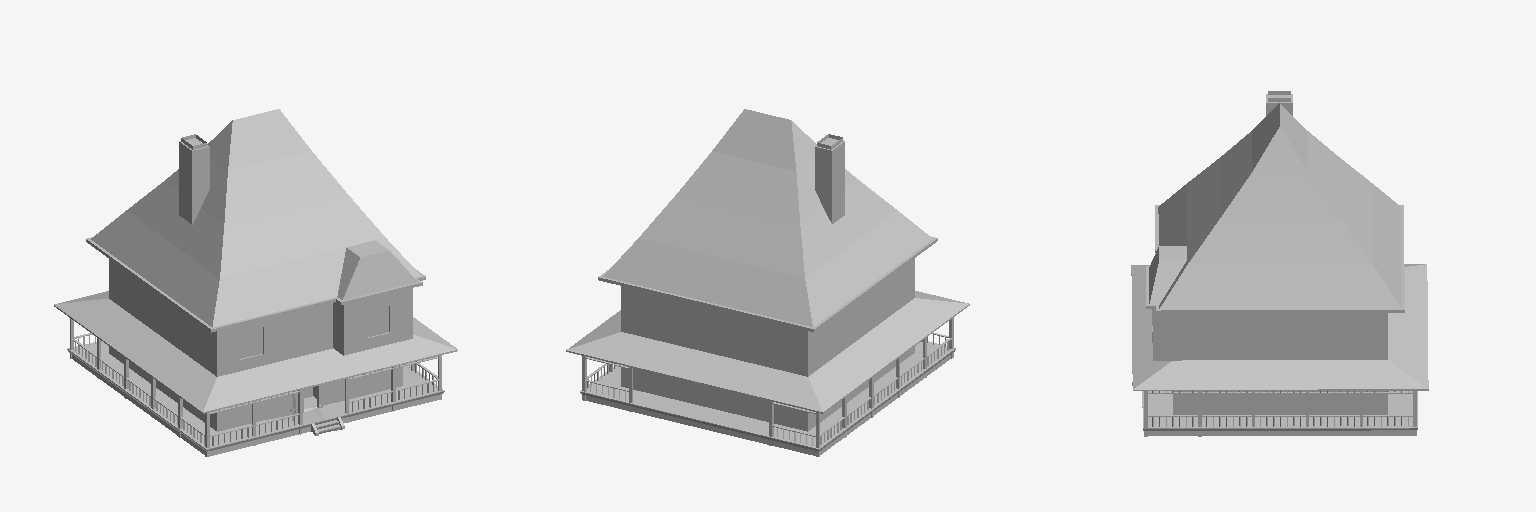
Rendered from Monster House.obj.
3 renders of one model, left to right at view 1: azimuth 30°, elevation 25°; view 2: azimuth 150°, elevation 25°; view 3: azimuth 270°, elevation 25°, orthographic.
Visible parts, largest first — view 1: Mesh_0063_Mesh_0063Mesh; view 2: Mesh_0063_Mesh_0063Mesh; view 3: Mesh_0063_Mesh_0063Mesh.
Part boxes in pixels (left/top/right/bottom): Mesh_0063_Mesh_0063Mesh: left=54, top=109, right=457, bottom=456; Mesh_0063_Mesh_0063Mesh: left=566, top=109, right=969, bottom=456; Mesh_0063_Mesh_0063Mesh: left=1131, top=91, right=1428, bottom=436.
Size of the model in its own units: 16.57 by 17.42 by 16.57.